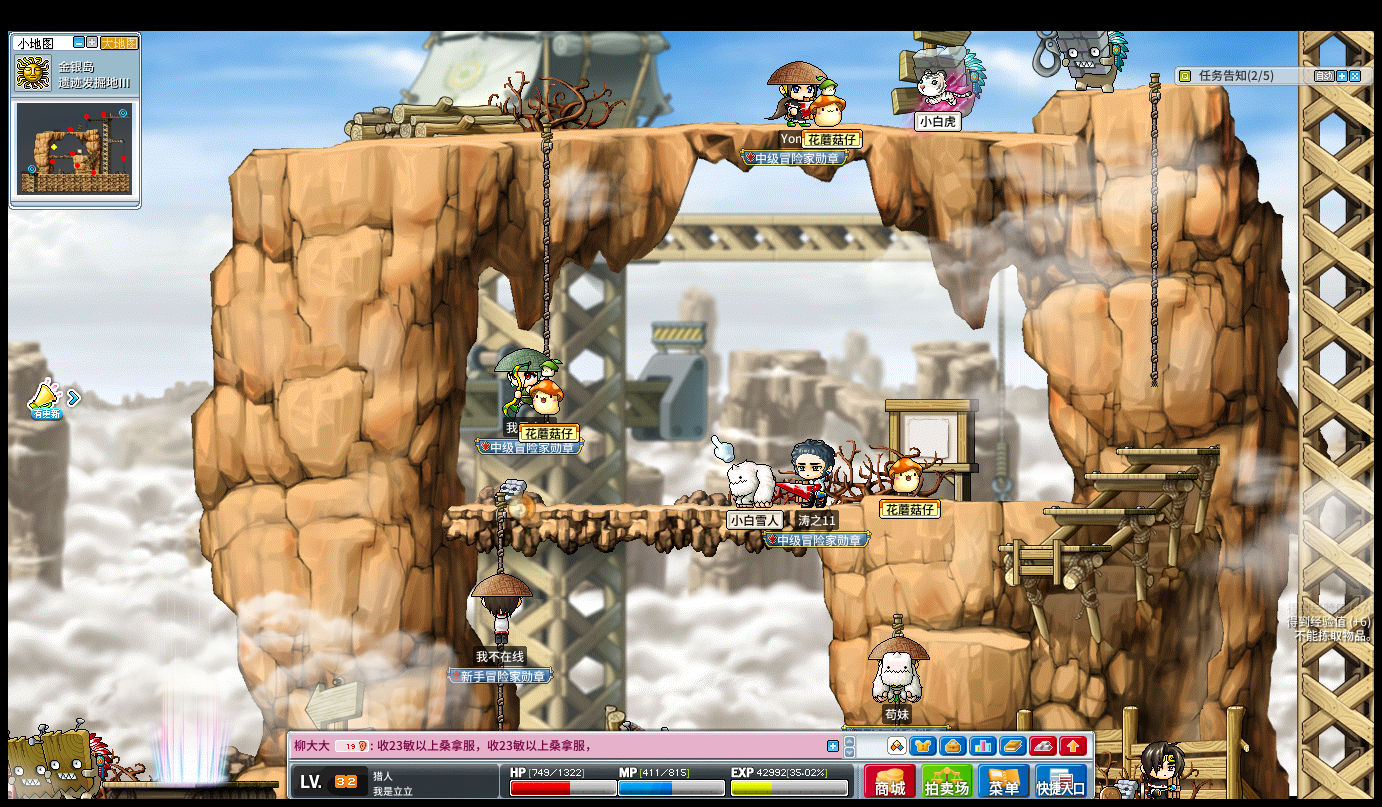floor: (237, 117, 1079, 153), (445, 503, 819, 516), (923, 628, 1029, 648), (1054, 82, 1176, 96), (940, 498, 1079, 508), (1114, 444, 1221, 455), (1041, 506, 1155, 516), (1078, 471, 1192, 481), (1041, 504, 1140, 514), (998, 543, 1110, 551)
monster: (11, 722, 112, 793), (914, 43, 987, 129), (1066, 26, 1128, 92)
rope: (1146, 69, 1160, 392), (540, 120, 551, 453), (541, 120, 551, 350), (492, 493, 505, 574)
